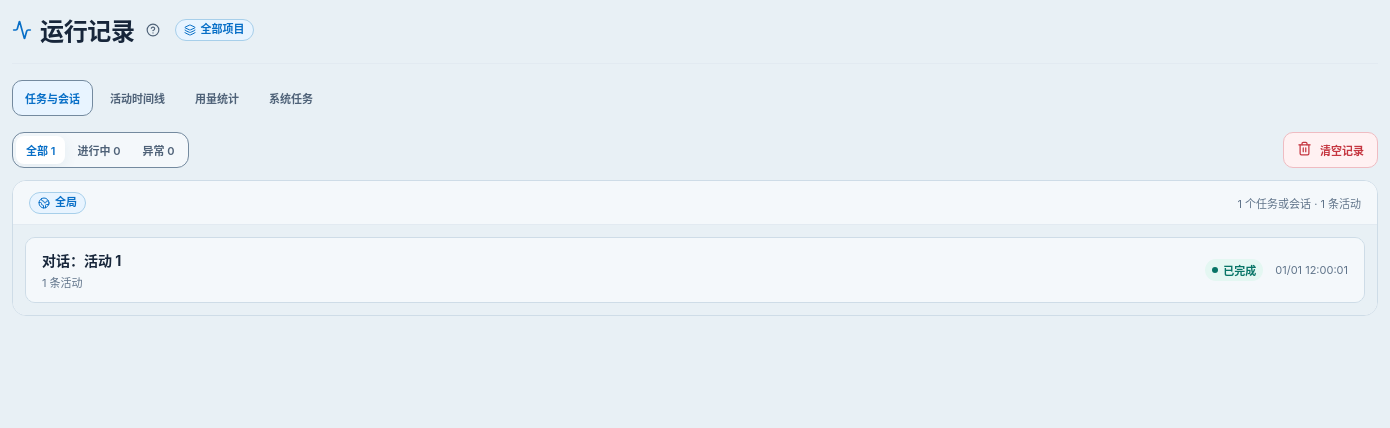
it: ActivityPanel › opens timeline guidance separately from tab navigation
Click the tab "活动时间线".
click(138, 98)  # box x1=97 y1=80 x2=178 y2=116
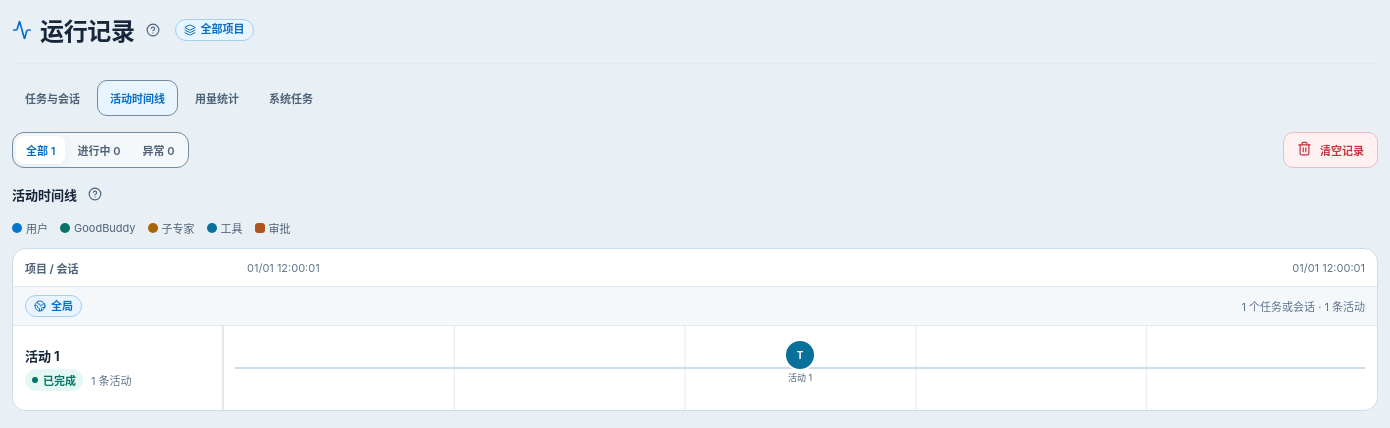
Click the button named "活动时间线".
click(95, 194)  # box x1=81 y1=180 x2=109 y2=208
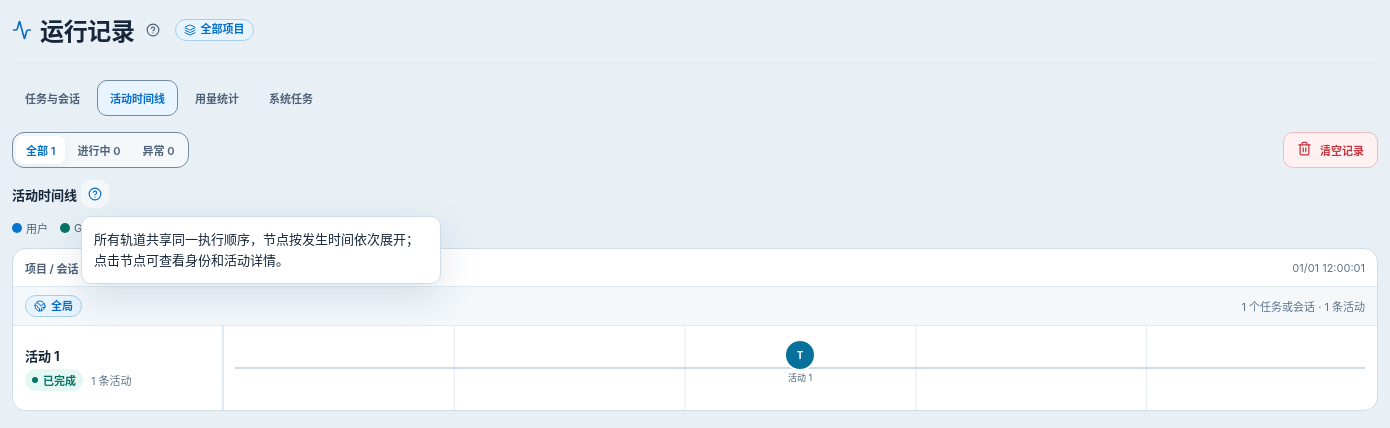
Now the tooltip shows "所有轨道共享同一执行顺序", box x1=94 y1=231 x2=419 y2=268
